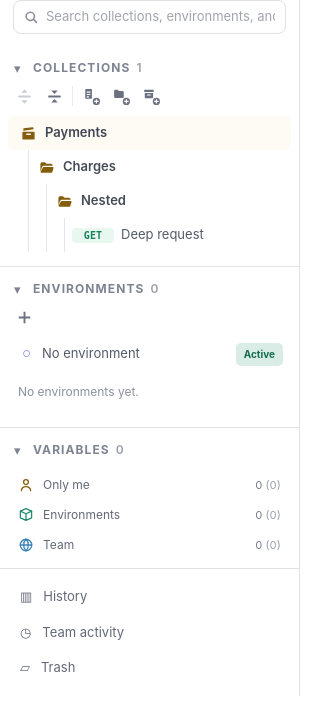
Test case: WorkspaceTree expand/collapse all › disables both while a search is active, because search already reveals matches
Type "Deep" into the field named "Search collections and environments and variables" at (160, 17), box [46,7,275,27]
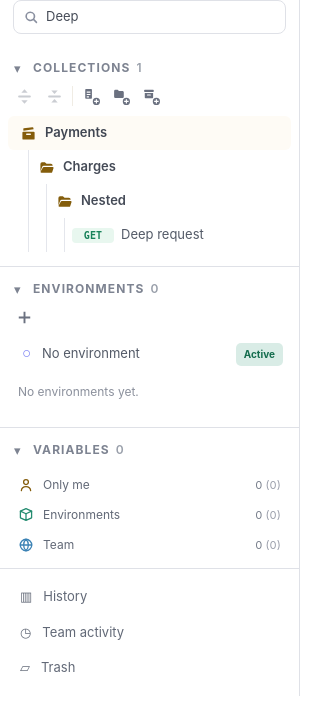
Expected: the button named "Expand all" is disabled, [10,82,38,110]
Result: the button named "Collapse all" is disabled at [40,82,68,110]
